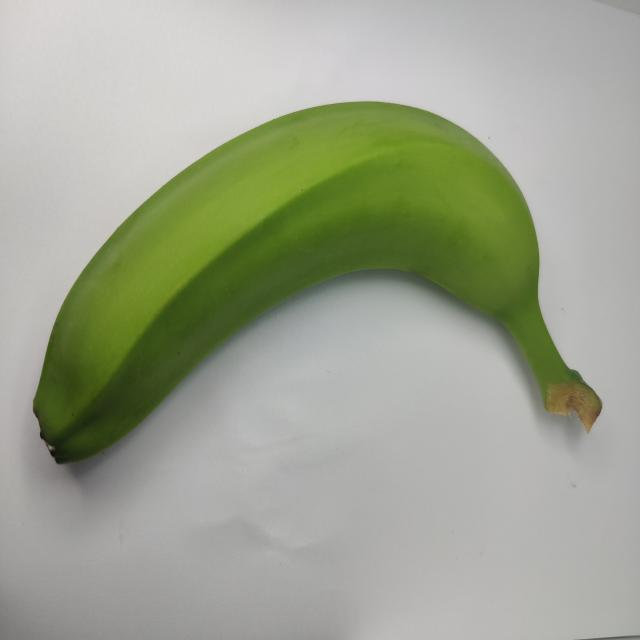raw: (27, 81, 613, 518)
